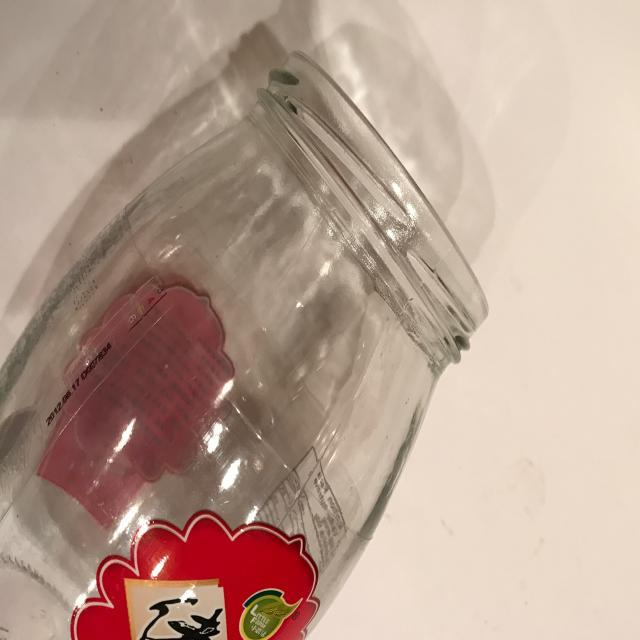glass: (2, 47, 493, 640)
